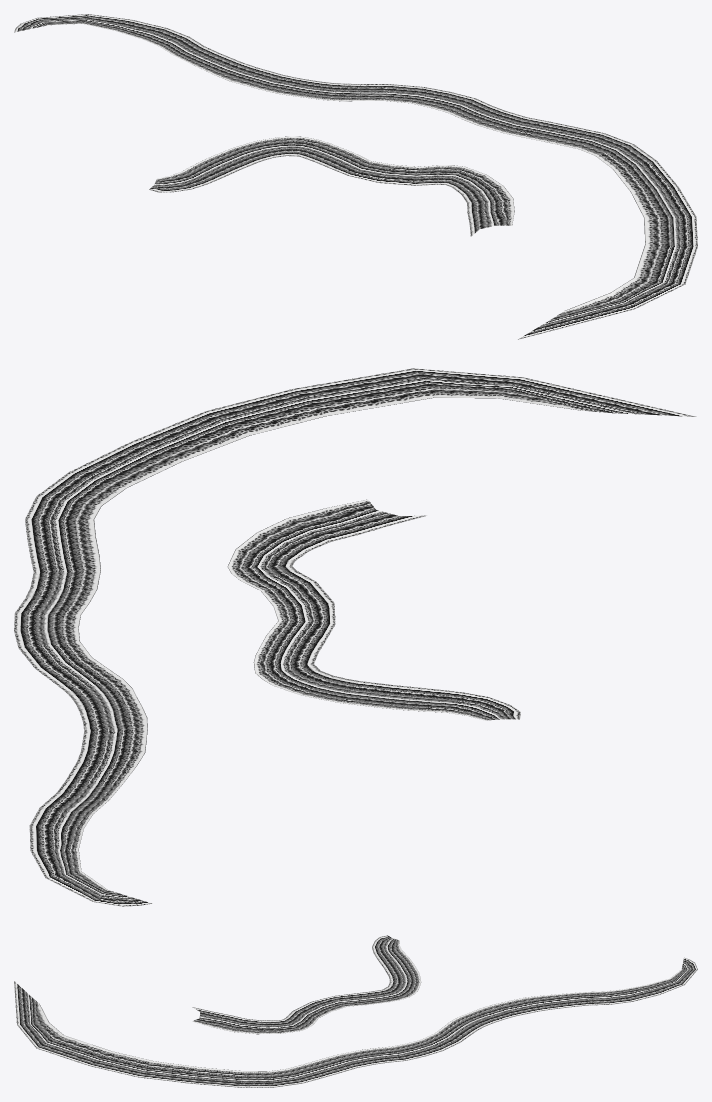
Rendered from Waves.fbx.
3 views of the same model, one above another, from view 1: azimuth 30°, elevation 25°; view 2: azimuth 150°, elevation 25°; view 3: azimuth 270°, elevation 25° (orthographic). The views are drawn at different scales.
Visible parts, largest first — view 1: polygon3.001, polygon0.002, polygon16.002; view 2: polygon3.001, polygon0.002, polygon16.002; view 3: polygon3.001, polygon0.002, polygon16.002.
Boxes of the visible parts, bbox=[...] form: polygon3.001: bbox=[446, 117, 697, 339]; polygon0.002: bbox=[149, 71, 526, 192]; polygon16.002: bbox=[14, 14, 270, 85]; polygon3.001: bbox=[25, 368, 696, 572]; polygon0.002: bbox=[14, 566, 520, 741]; polygon16.002: bbox=[29, 740, 151, 906]; polygon3.001: bbox=[14, 981, 356, 1087]; polygon0.002: bbox=[282, 935, 525, 1067]; polygon16.002: bbox=[512, 957, 697, 1013].
Bounding box in the file's own units: 180490 × 708 × 342357.
